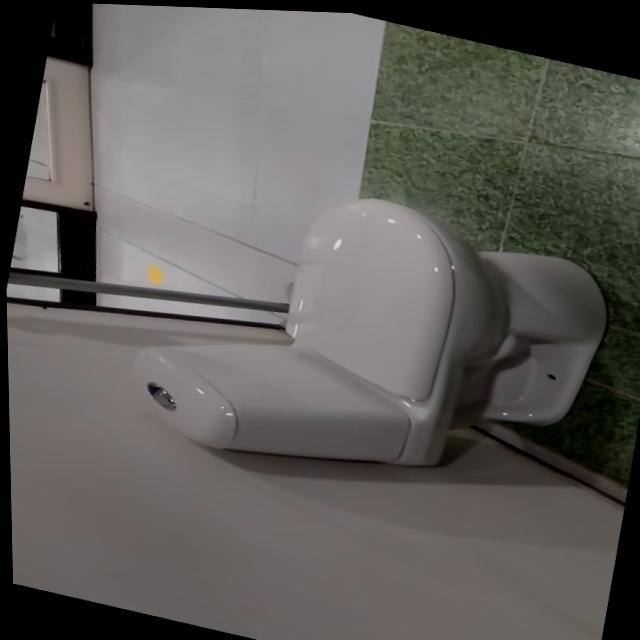toilet: (116, 147, 625, 530)
